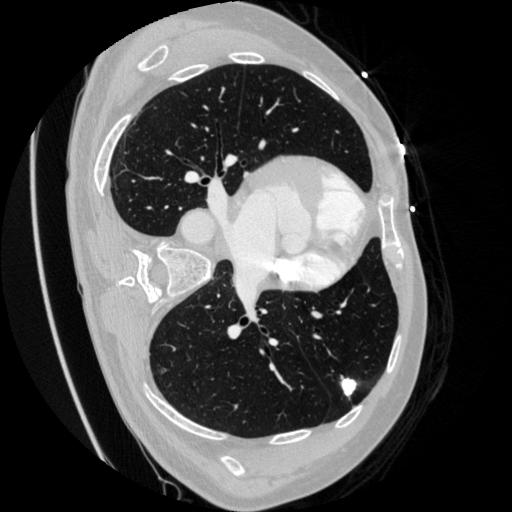nodule: (338, 377, 362, 401)
